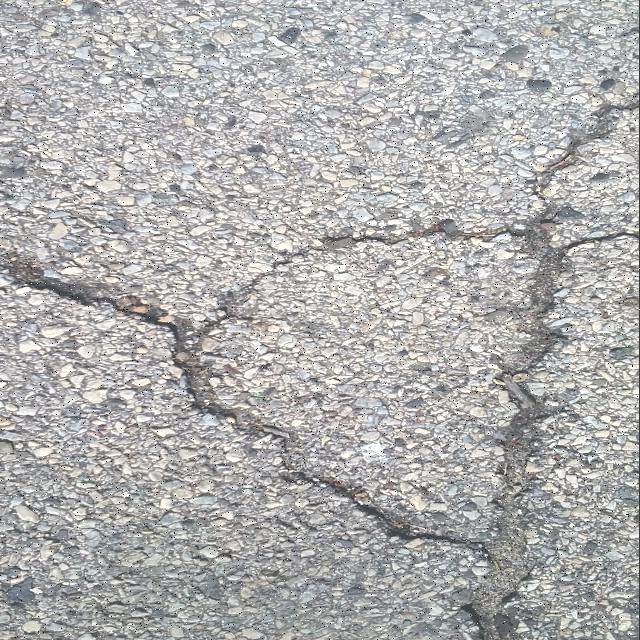Crack: (0, 96, 640, 640)
